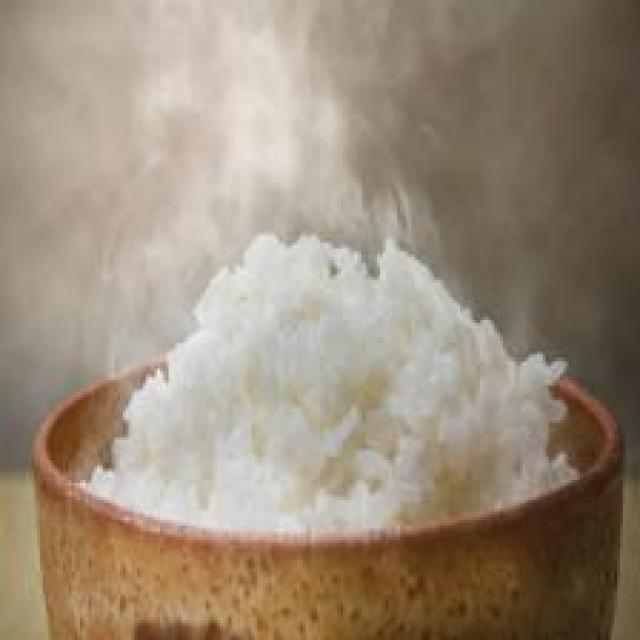Wet Waste: (76, 222, 589, 548)
